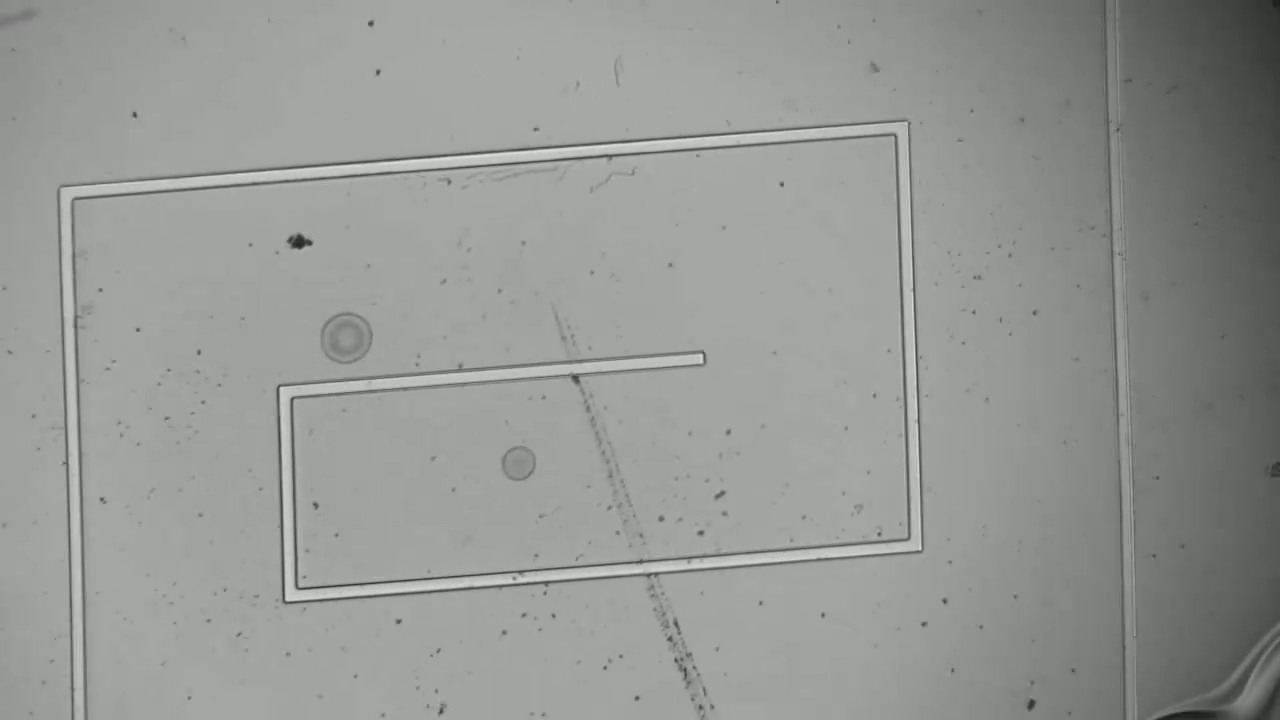scratch: (547, 324, 722, 716)
